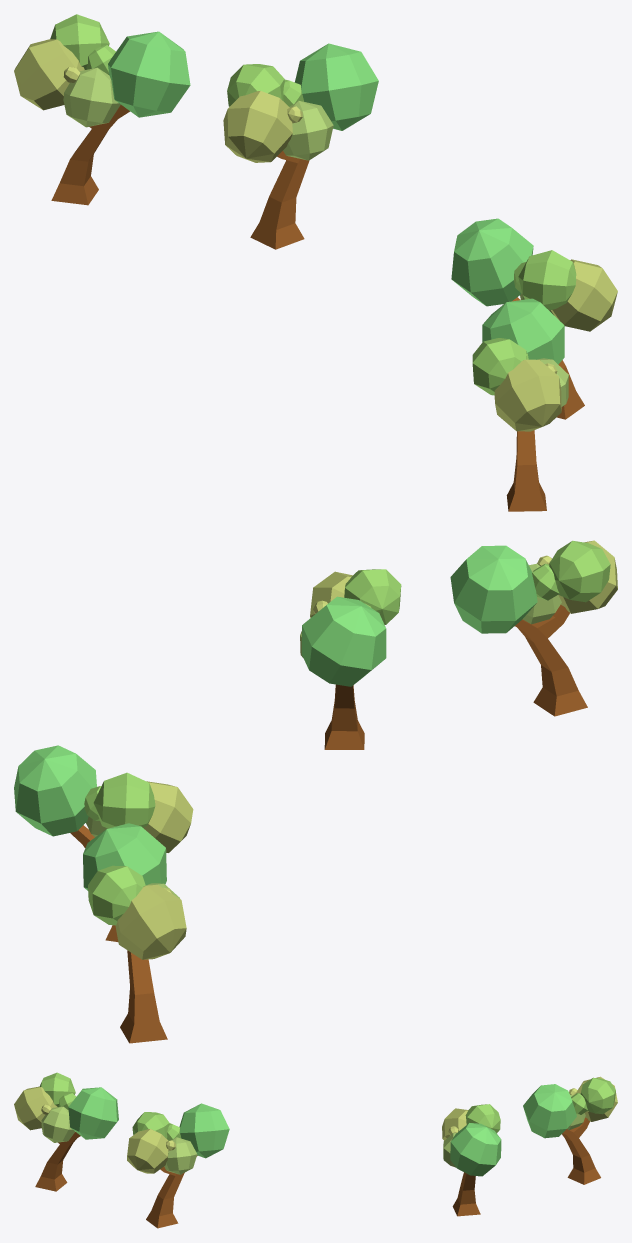
The model's file is arboles1.obj.
The picture shows the model from 3 angles, top to bottom: view 1: azimuth 30°, elevation 25°; view 2: azimuth 150°, elevation 25°; view 3: azimuth 270°, elevation 25°; orthographic projection. The views are drawn at different scales.
Parts seen in each view (by area): view 1: Esfera_1.003_Malla.011; view 2: Esfera_1.003_Malla.011; view 3: Esfera_1.003_Malla.011.
Part boxes in pixels (box(x1,y1,x2,y2)): Esfera_1.003_Malla.011: box(14, 14, 617, 511); Esfera_1.003_Malla.011: box(14, 540, 617, 1043); Esfera_1.003_Malla.011: box(14, 1072, 617, 1228).
Size of the model in its own units: 51.73 by 31.88 by 168.
